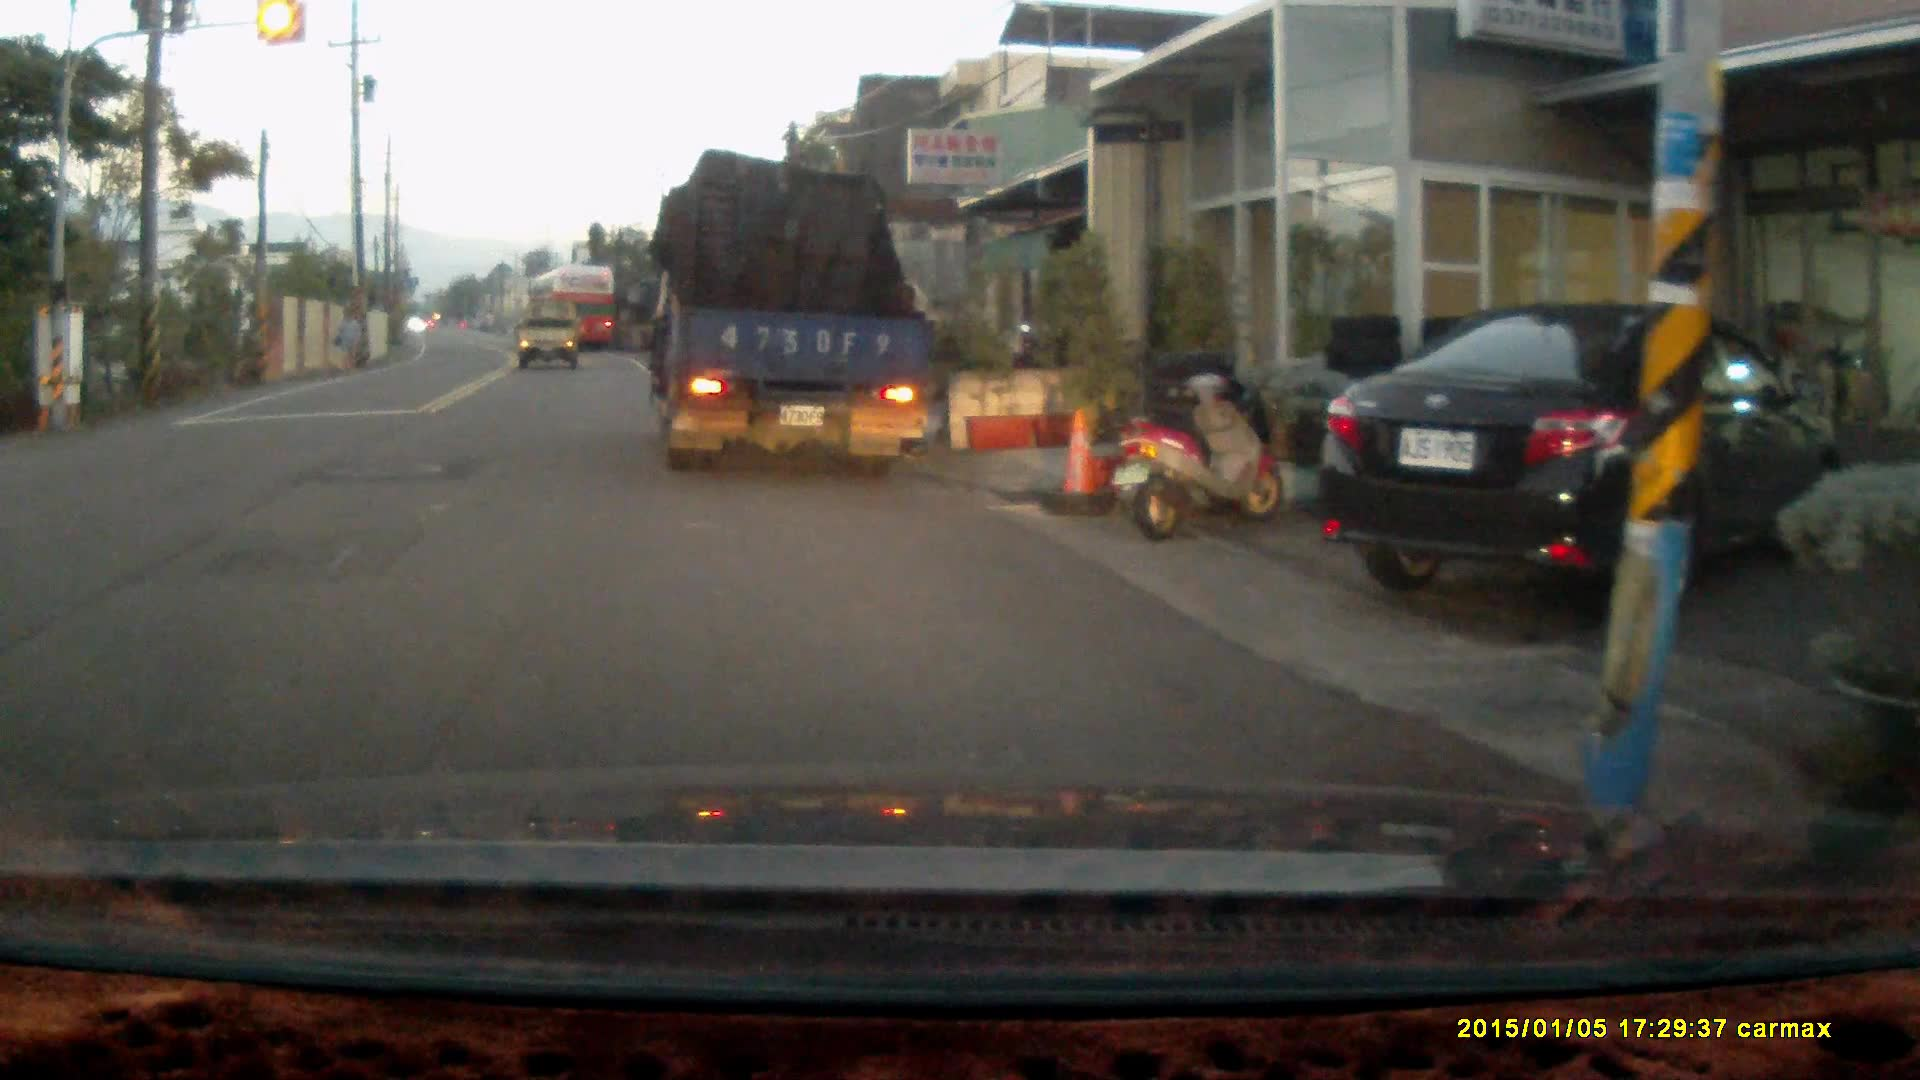pedestrian: (330, 300, 362, 369)
vehicle: (1311, 298, 1853, 627), (641, 157, 931, 474), (529, 265, 624, 358), (516, 292, 582, 372)
